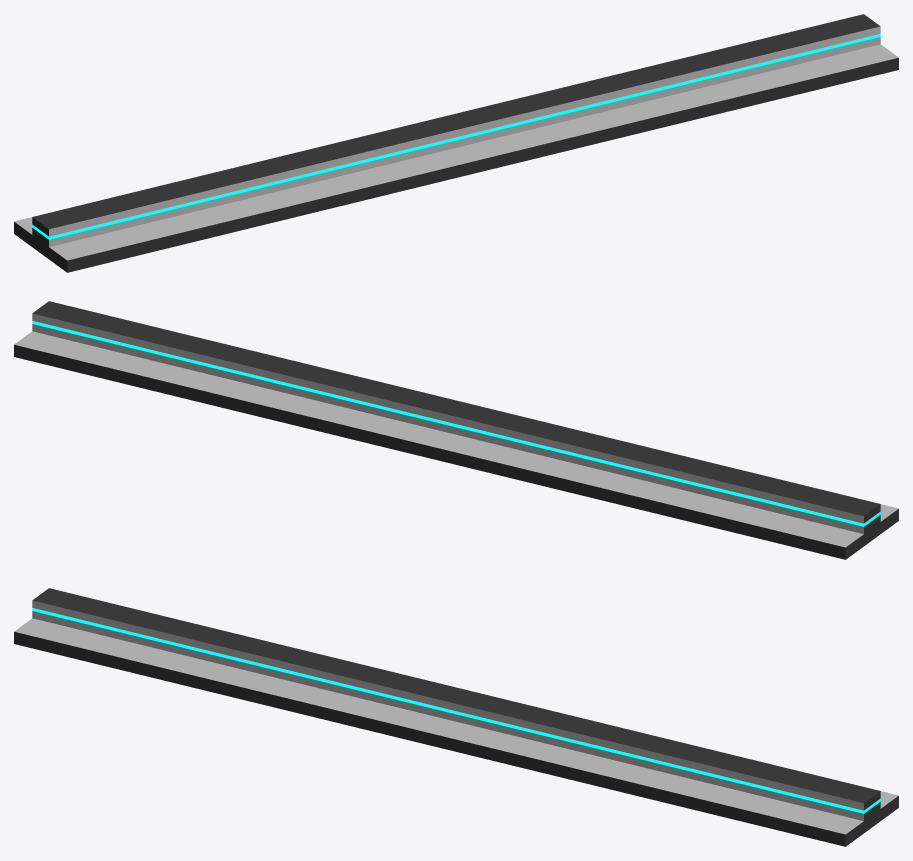
Rendered from SM_Rail.fbx.
3 views of the same model, one above another, from view 1: azimuth 30°, elevation 25°; view 2: azimuth 150°, elevation 25°; view 3: azimuth 330°, elevation 25° (orthographic).
Visible parts, largest first — view 1: SM_Rail; view 2: SM_Rail; view 3: SM_Rail.
Boxes of the visible parts, x1=… form: SM_Rail: x1=14, y1=14, x2=898, y2=272; SM_Rail: x1=14, y1=301, x2=898, y2=559; SM_Rail: x1=14, y1=588, x2=898, y2=846.
Size of the model in its own units: 900 by 31.22 by 100.
